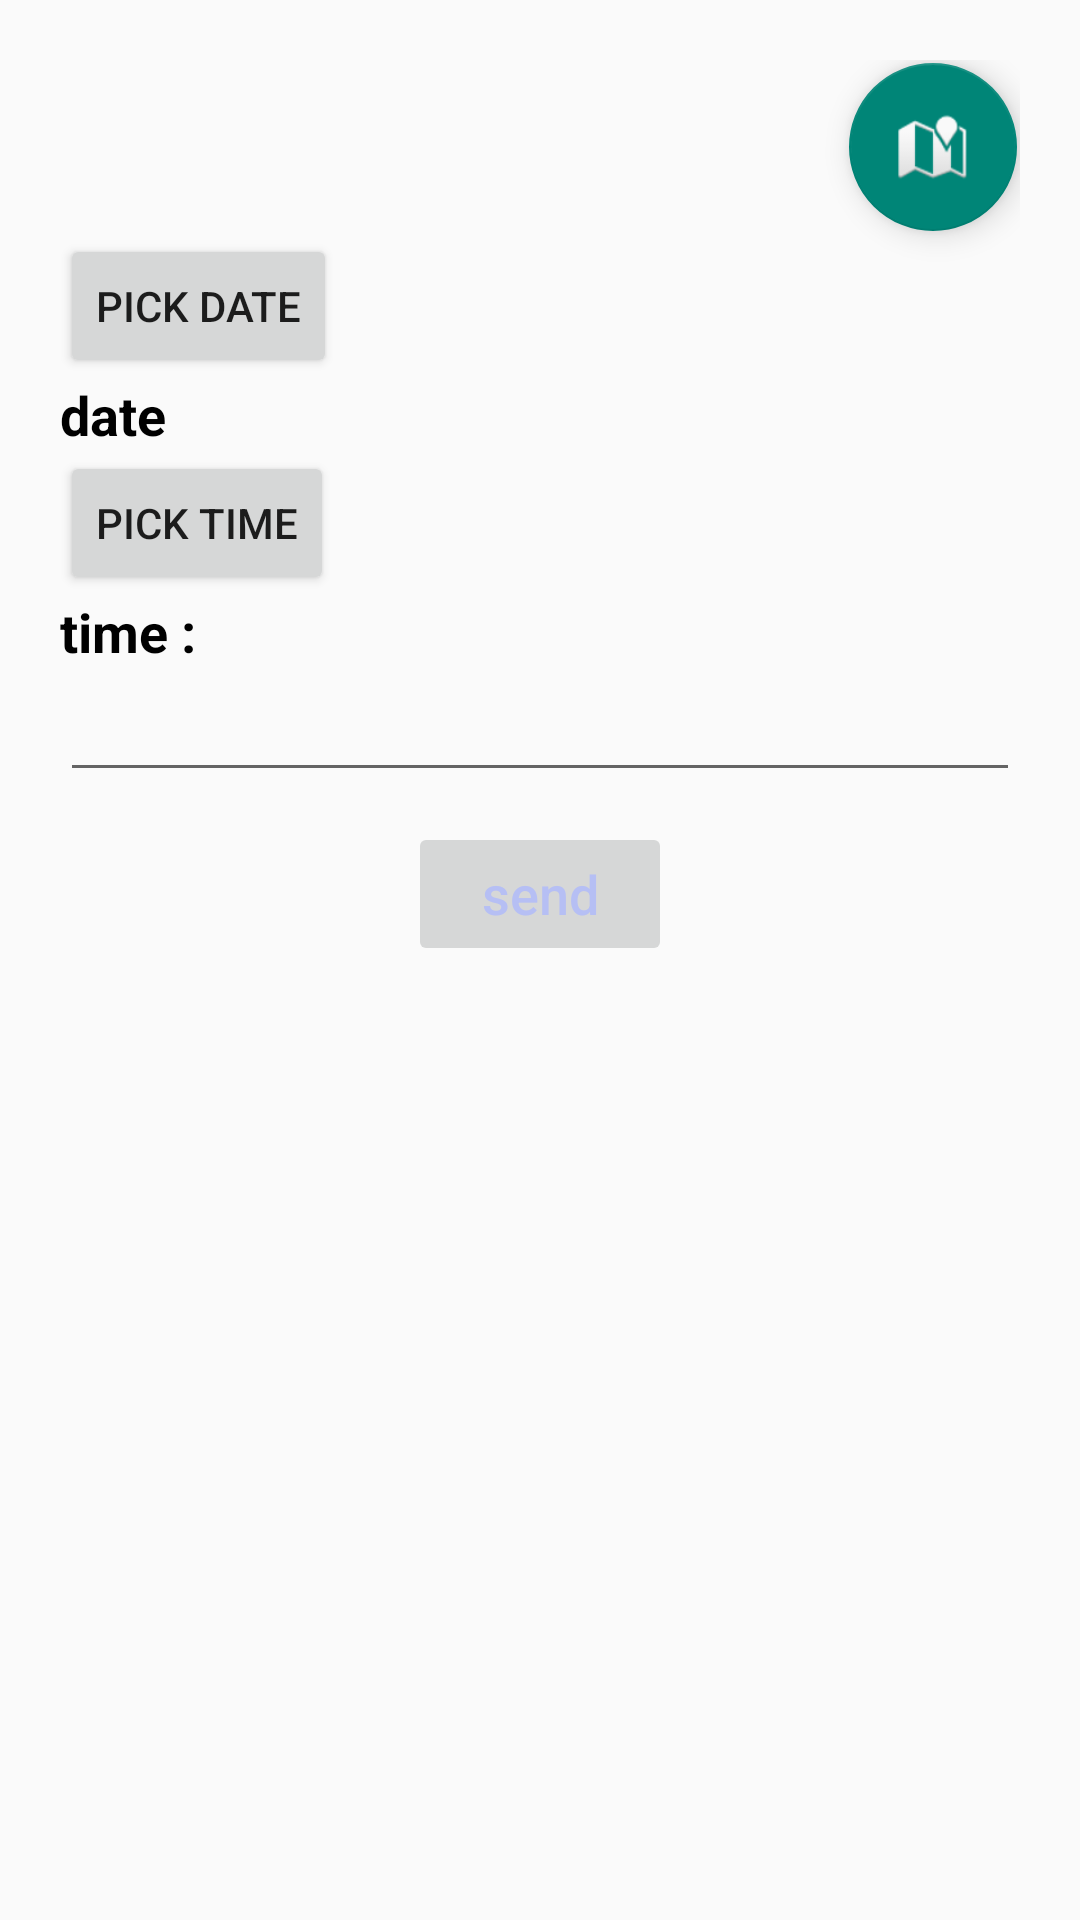

Screen size 1080x1920. Icon name, then its center in pixels as point (x, y):
map: point (933, 147)
